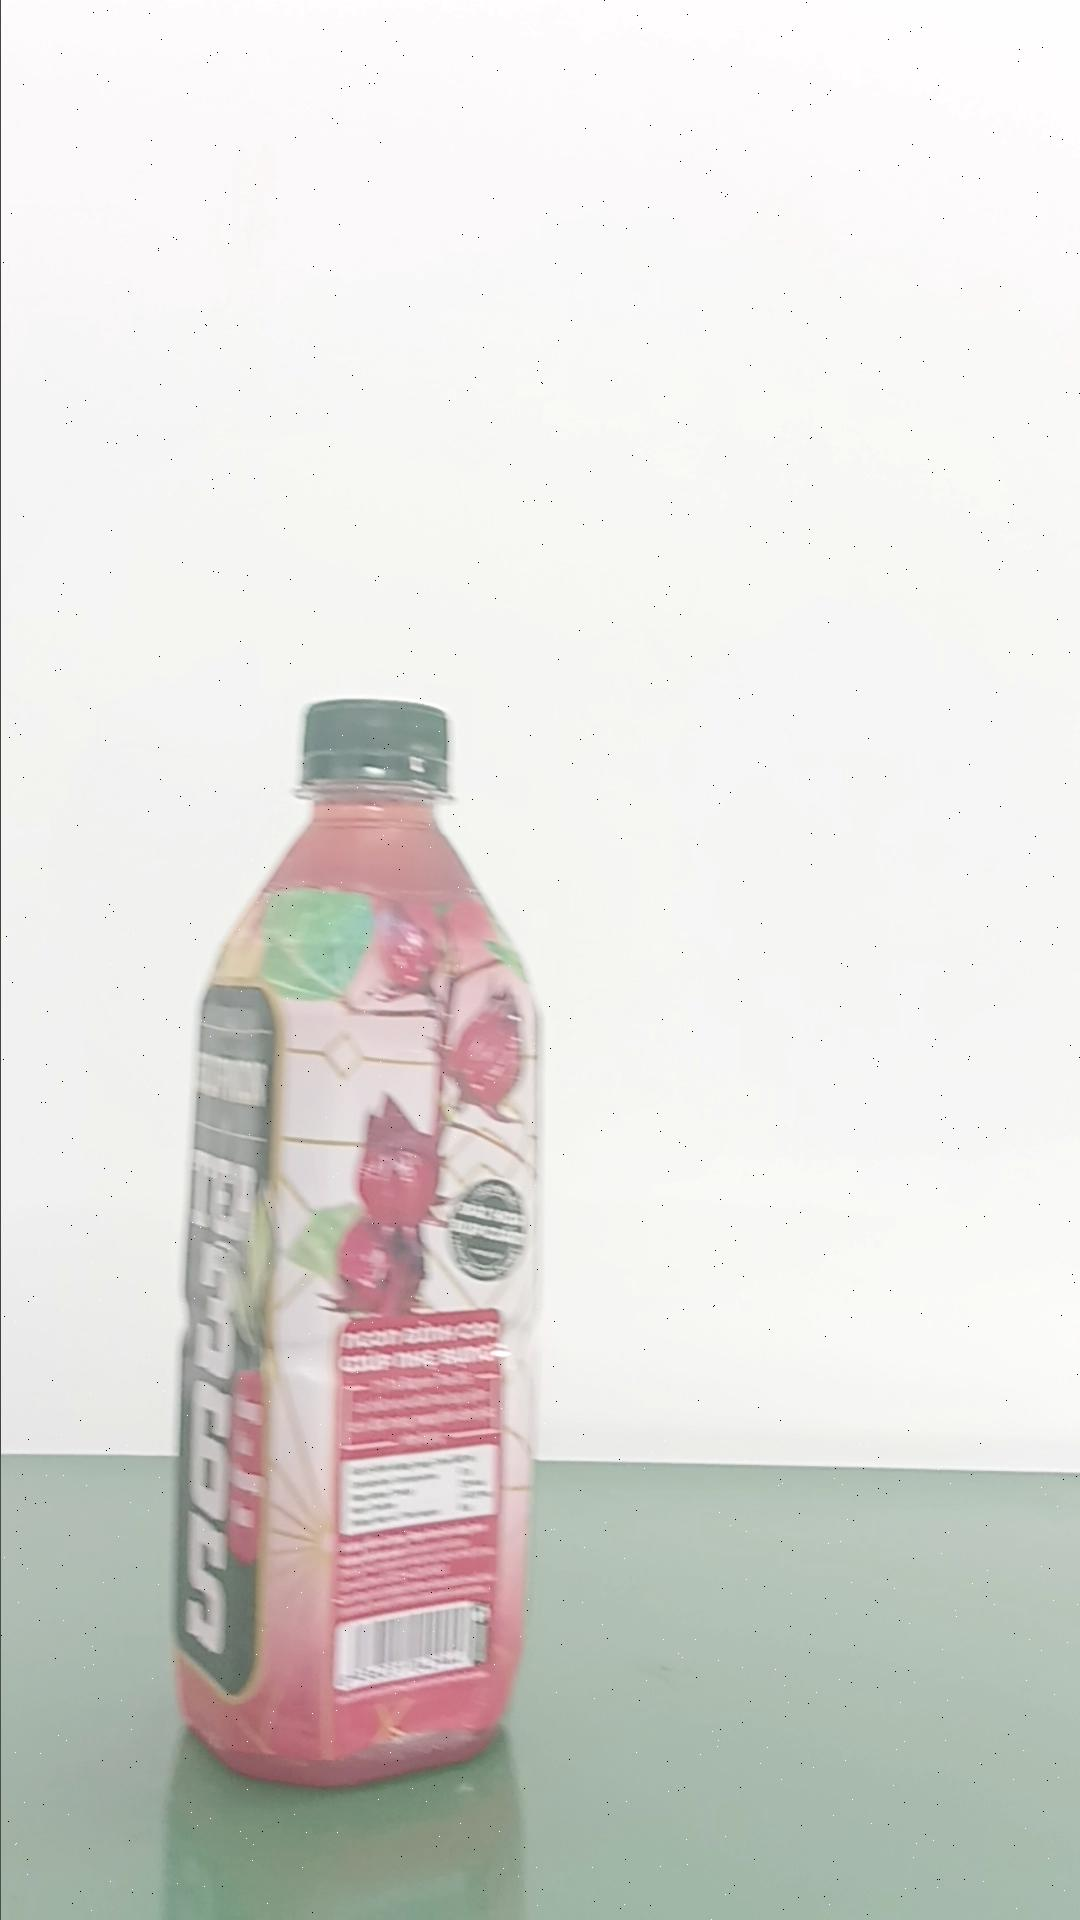khong loi: (169, 694, 546, 1789)
